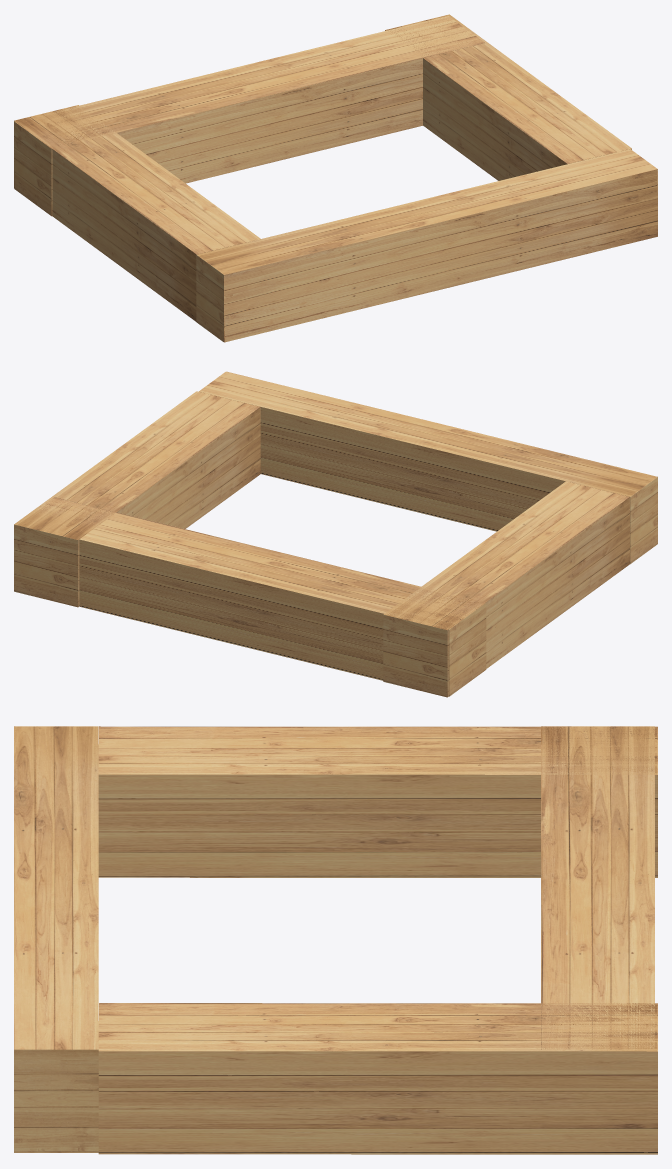
Rendered from fences.obj.
3 renders of one model, top to bottom at view 1: azimuth 30°, elevation 25°; view 2: azimuth 150°, elevation 25°; view 3: azimuth 270°, elevation 25°, orthographic. The views are drawn at different scales.
Visible parts, largest first — view 1: fences; view 2: fences; view 3: fences.
Part boxes in pixels (box(x1,y1,x2,y2)): fences: box(14, 14, 657, 342); fences: box(14, 371, 657, 697); fences: box(14, 726, 657, 1154).
Size of the model in its own units: 10.51 by 1.56 by 8.8.
